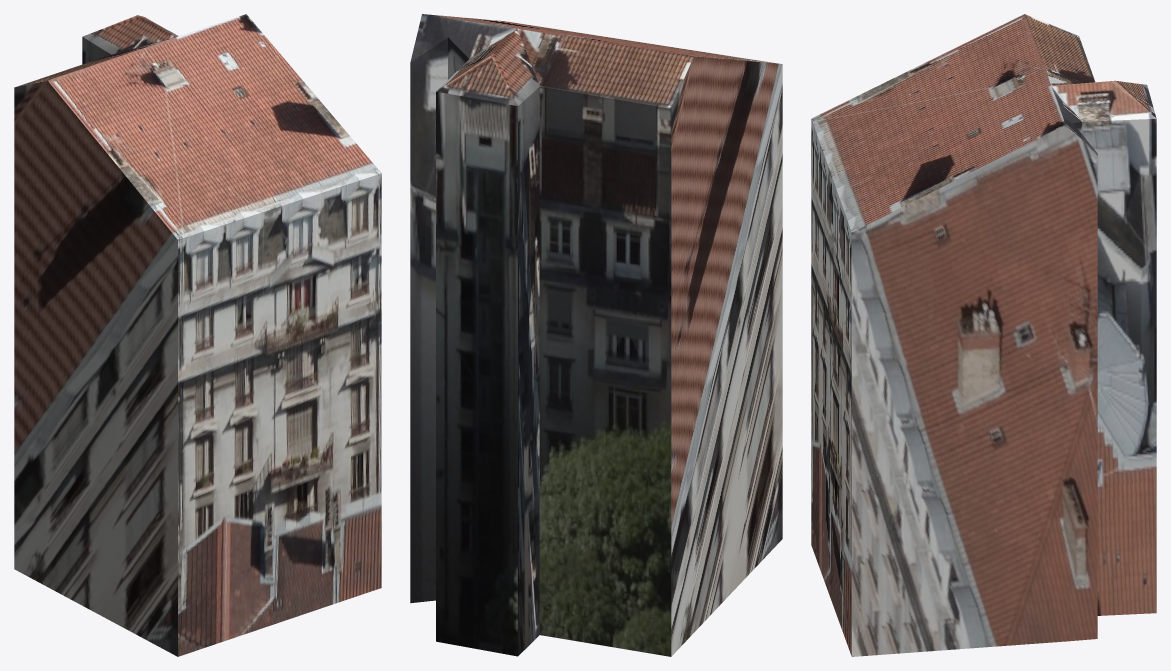
3 renders of one model, left to right at view 1: azimuth 30°, elevation 25°; view 2: azimuth 150°, elevation 25°; view 3: azimuth 270°, elevation 25°, orthographic. The views are drawn at different scales.
Parts seen in each view (by area): view 1: Z_UP; view 2: Z_UP; view 3: Z_UP.
Part boxes in pixels (left/top/right/bottom): Z_UP: left=14, top=14, right=381, bottom=656; Z_UP: left=410, top=14, right=782, bottom=656; Z_UP: left=811, top=14, right=1156, bottom=656.
Size of the model in its own units: 15.18 by 28.66 by 17.29.
2 materials, 1 textured.
